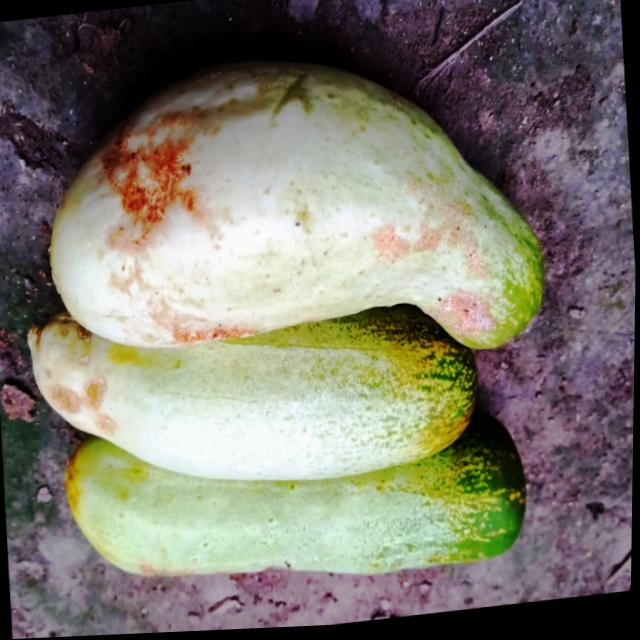Belly-Rot: (349, 171, 500, 302), (91, 116, 215, 262), (38, 312, 121, 447), (167, 305, 265, 364), (432, 289, 509, 358), (135, 561, 190, 587)
